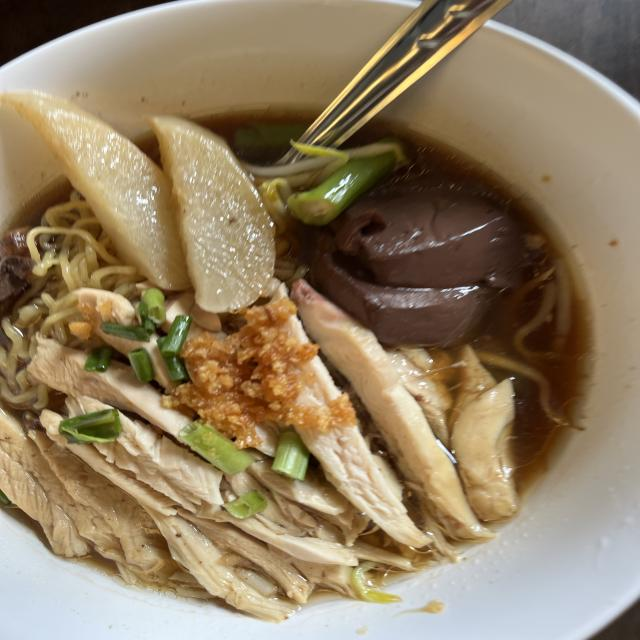boiled_chicken_blood_jelly: (313, 178, 499, 339)
chicken_shredded: (0, 302, 506, 561)
daikon_radish: (0, 76, 270, 310)
noodle: (0, 68, 640, 622)
